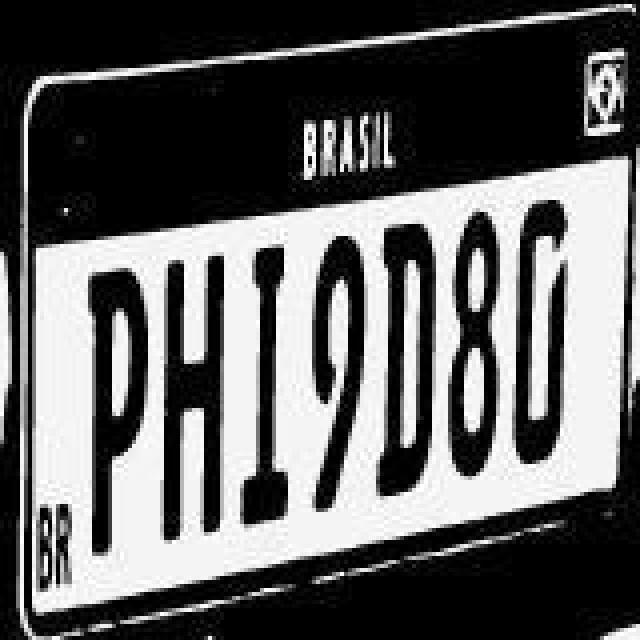8: (442, 206, 510, 498)
9: (302, 226, 370, 526)
D: (370, 218, 438, 510), (508, 194, 572, 478)
H: (154, 242, 230, 550)
I: (238, 236, 306, 532)
P: (82, 258, 150, 558)
